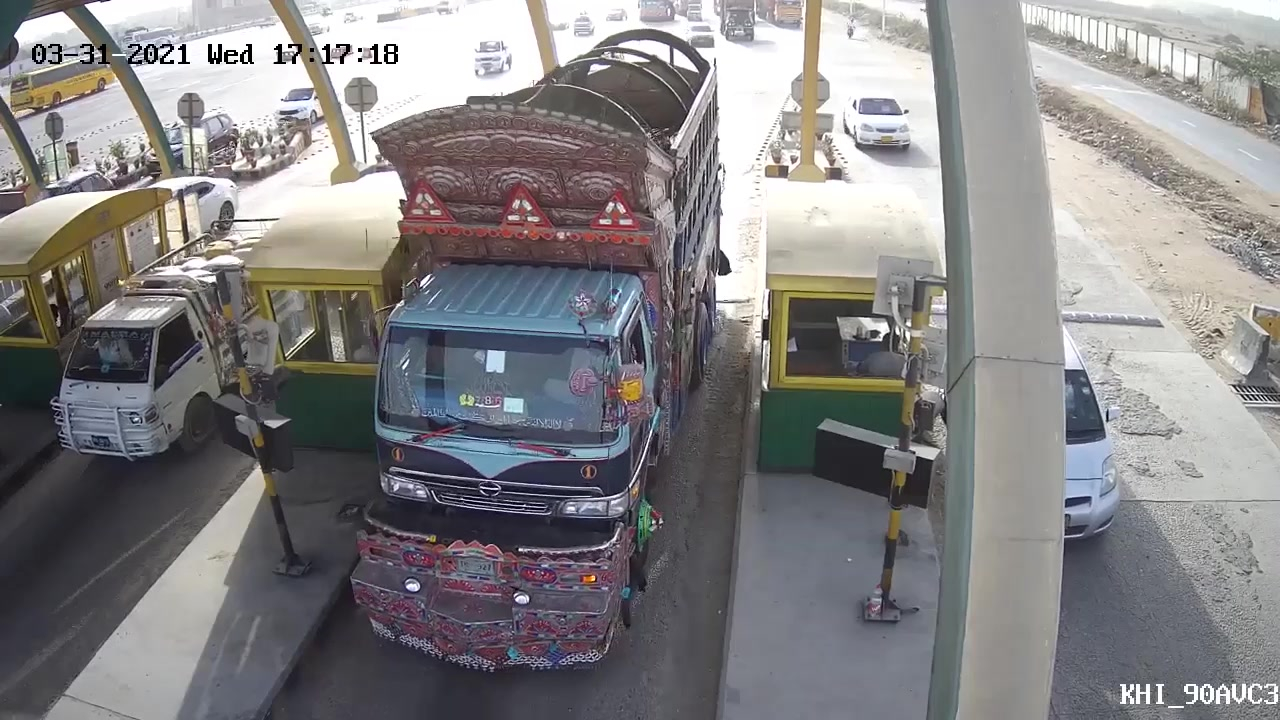F5: (360, 33, 726, 678)
